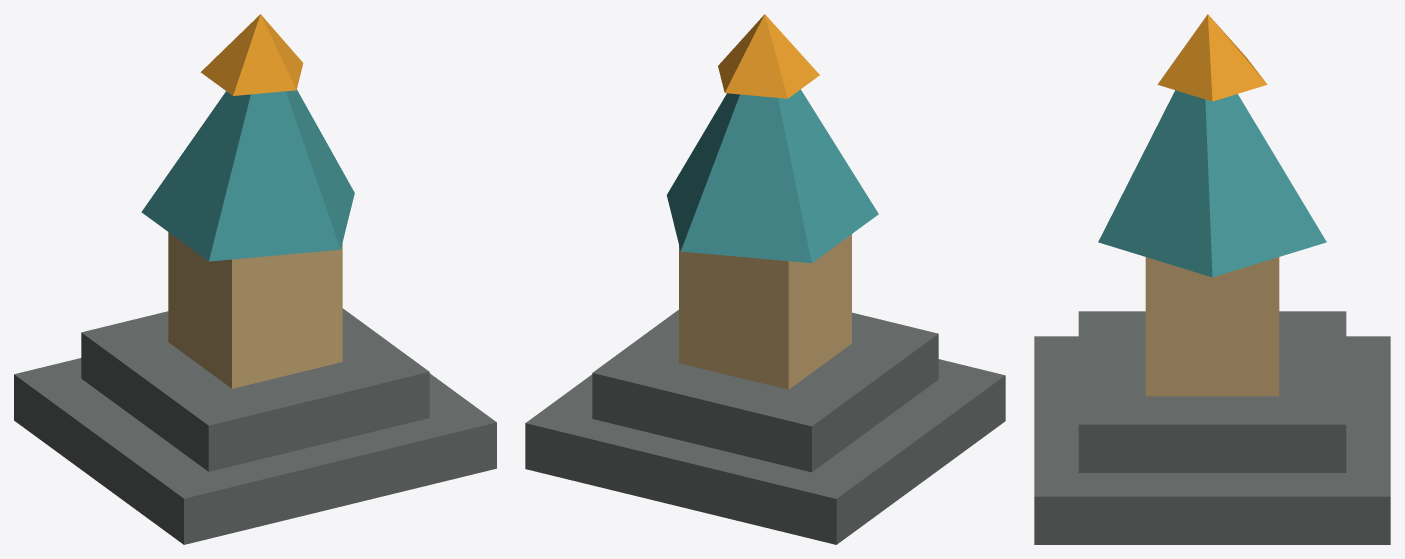
File: Shrine.fbx
3 renders of one model, left to right at view 1: azimuth 30°, elevation 25°; view 2: azimuth 150°, elevation 25°; view 3: azimuth 270°, elevation 25°, orthographic. The views are drawn at different scales.
Parts seen in each view (by area): view 1: Shrine; view 2: Shrine; view 3: Shrine.
Boxes of the visible parts, x1,y1,x2,y2 form: Shrine: (14,14,496,544); Shrine: (525,14,1005,544); Shrine: (1034,14,1390,544).
Size of the model in its own units: 85 by 112 by 80.
